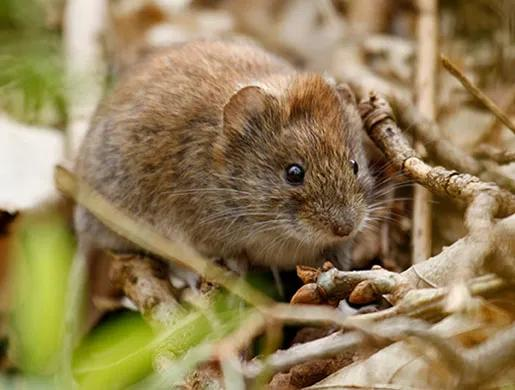rat: (73, 40, 372, 287)
